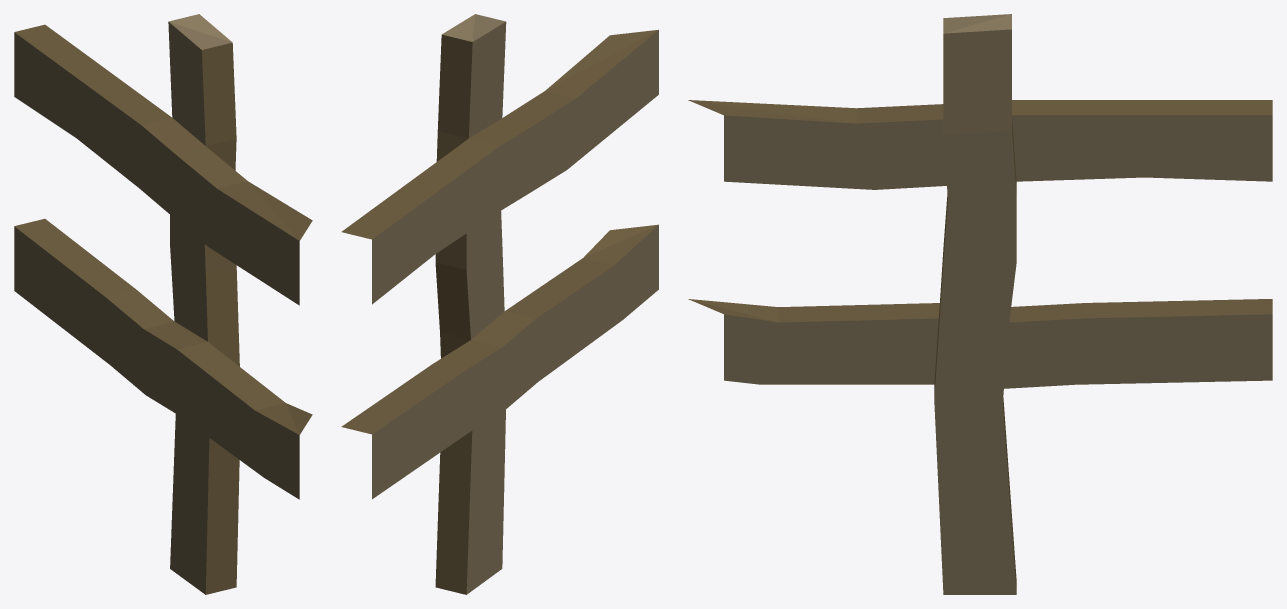
3 views of the same model, side by side, from view 1: azimuth 30°, elevation 25°; view 2: azimuth 150°, elevation 25°; view 3: azimuth 270°, elevation 25° (orthographic). The views are drawn at different scales.
Size of the model in its own units: 16 by 136 by 128.
Materials: 1 (1 with a texture image).
